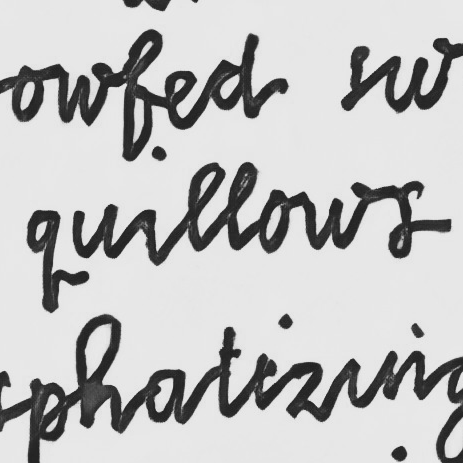i: (135, 145, 171, 267)
l: (183, 160, 226, 253), (226, 159, 260, 253)
o: (257, 186, 293, 254)
q: (24, 207, 67, 315)
s: (385, 175, 427, 261)
u: (70, 202, 121, 261)
w: (299, 182, 371, 251)
